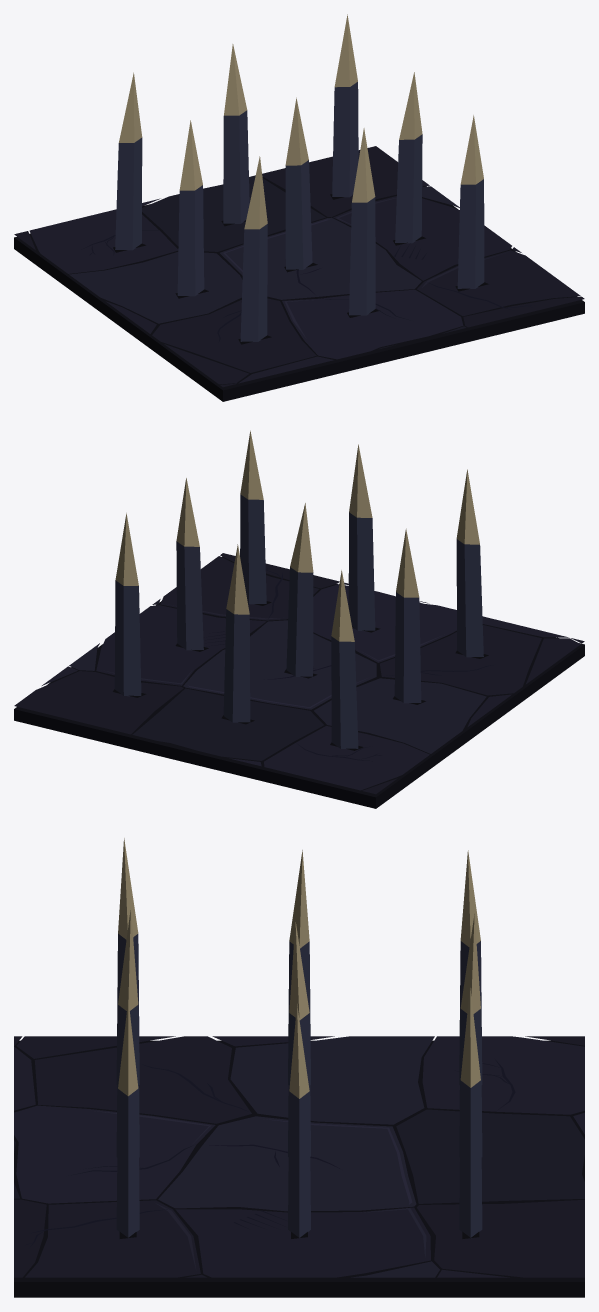
The model's file is floor_tile_big_spikes.glb.
The picture shows the model from 3 angles, top to bottom: view 1: azimuth 30°, elevation 25°; view 2: azimuth 150°, elevation 25°; view 3: azimuth 270°, elevation 25°; orthographic projection. The views are drawn at different scales.
Parts seen in each view (by area): view 1: floor_tile_big_spikes.001, spikes; view 2: floor_tile_big_spikes.001, spikes; view 3: floor_tile_big_spikes.001, spikes.
Boxes of the visible parts, x1,y1,x2,y2 form: floor_tile_big_spikes.001: [14, 146, 584, 401]; spikes: [115, 14, 484, 341]; floor_tile_big_spikes.001: [14, 553, 584, 808]; spikes: [114, 430, 483, 748]; floor_tile_big_spikes.001: [14, 1036, 584, 1297]; spikes: [116, 838, 482, 1238].
Bounding box in the file's own units: 4 × 2.1 × 4.
